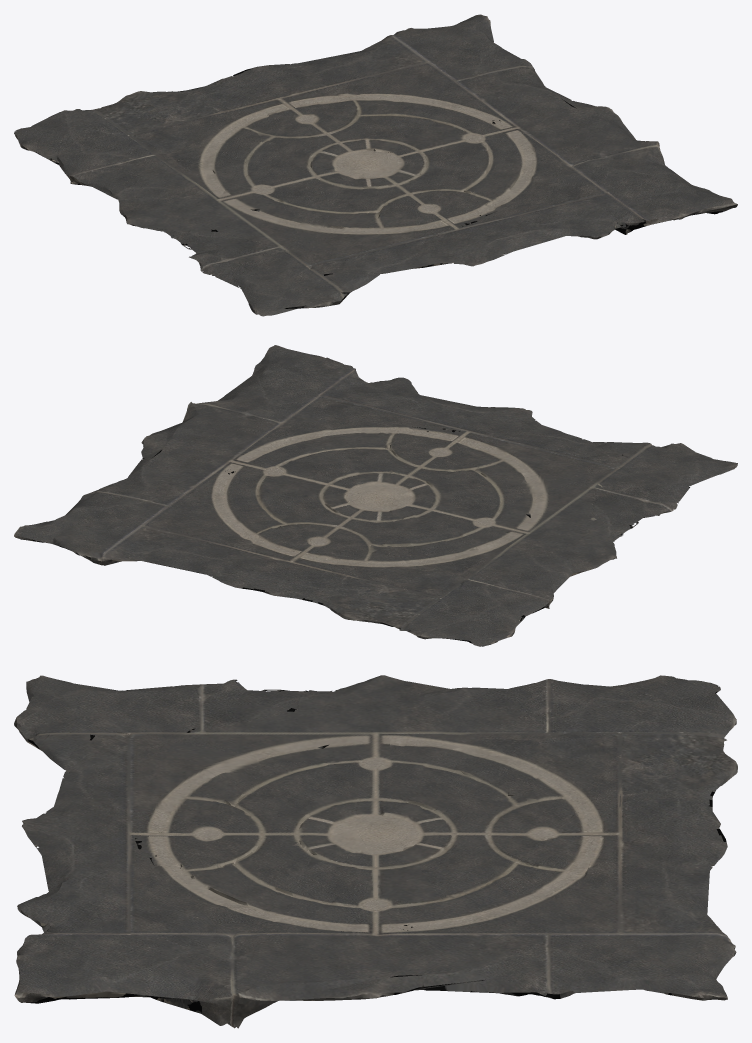
The model's file is floor2.glb.
3 renders of one model, top to bottom at view 1: azimuth 30°, elevation 25°; view 2: azimuth 150°, elevation 25°; view 3: azimuth 270°, elevation 25°, orthographic. The views are drawn at different scales.
Parts seen in each view (by area): view 1: output_unwrapped; view 2: output_unwrapped; view 3: output_unwrapped.
Boxes of the visible parts, box(x1,y1,x2,y2) form: output_unwrapped: box(14, 14, 737, 316); output_unwrapped: box(14, 345, 737, 646); output_unwrapped: box(14, 675, 737, 1028).
Size of the model in its own units: 1.89 by 0.101 by 1.8.
Materials: 1 (1 with a texture image).
